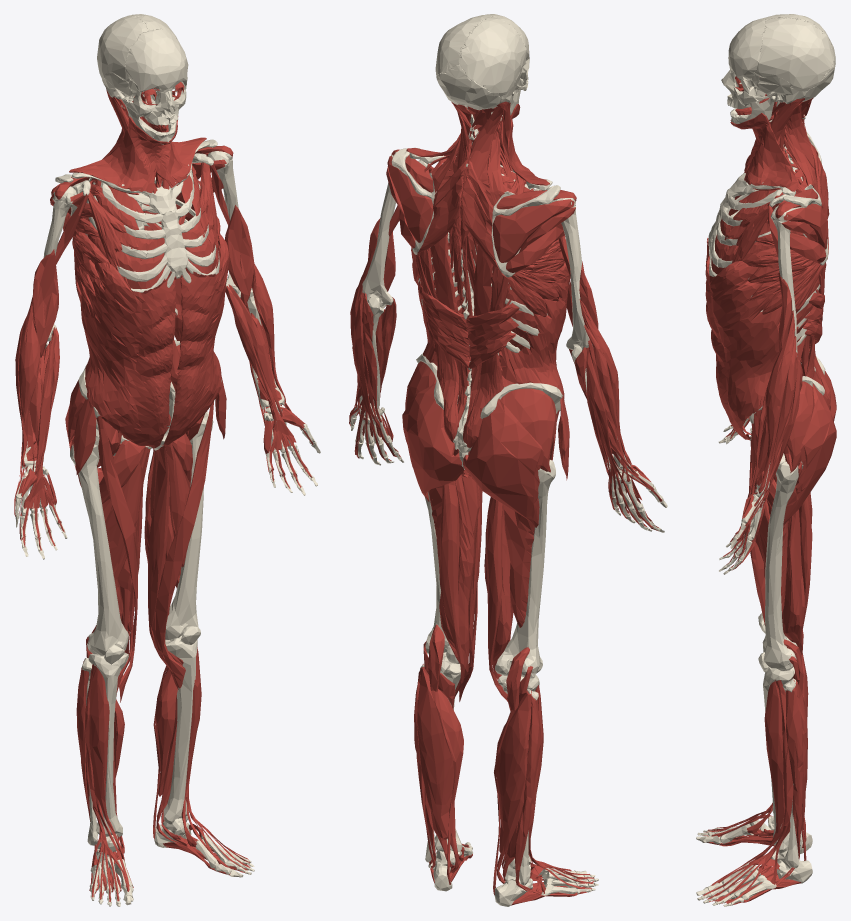
File: muscles.glb
3 renders of one model, left to right at view 1: azimuth 30°, elevation 25°; view 2: azimuth 150°, elevation 25°; view 3: azimuth 270°, elevation 25°, orthographic. The views are drawn at different scales.
Visible parts, largest first — view 1: muscles, skeleton; view 2: muscles, skeleton; view 3: muscles, skeleton.
Boxes of the visible parts, x1,y1,x2,y2 form: muscles: (14, 82, 313, 901); skeleton: (15, 14, 320, 906); muscles: (349, 101, 662, 905); skeleton: (350, 14, 667, 906); muscles: (703, 76, 836, 904); skeleton: (696, 14, 835, 906).
Size of the model in its own units: 0.6478 by 1.71 by 0.256.
